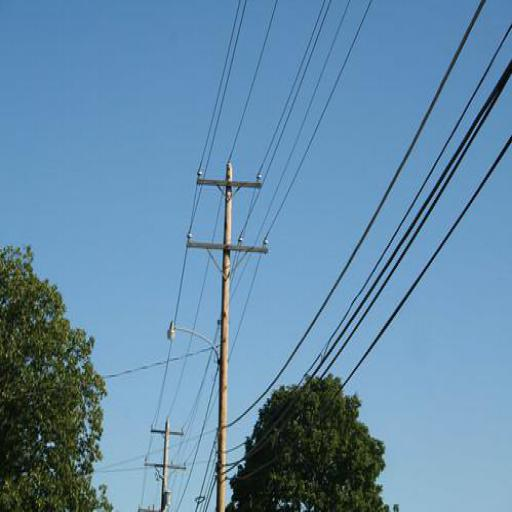mono_8: (186, 162, 269, 510), (144, 416, 188, 510)
